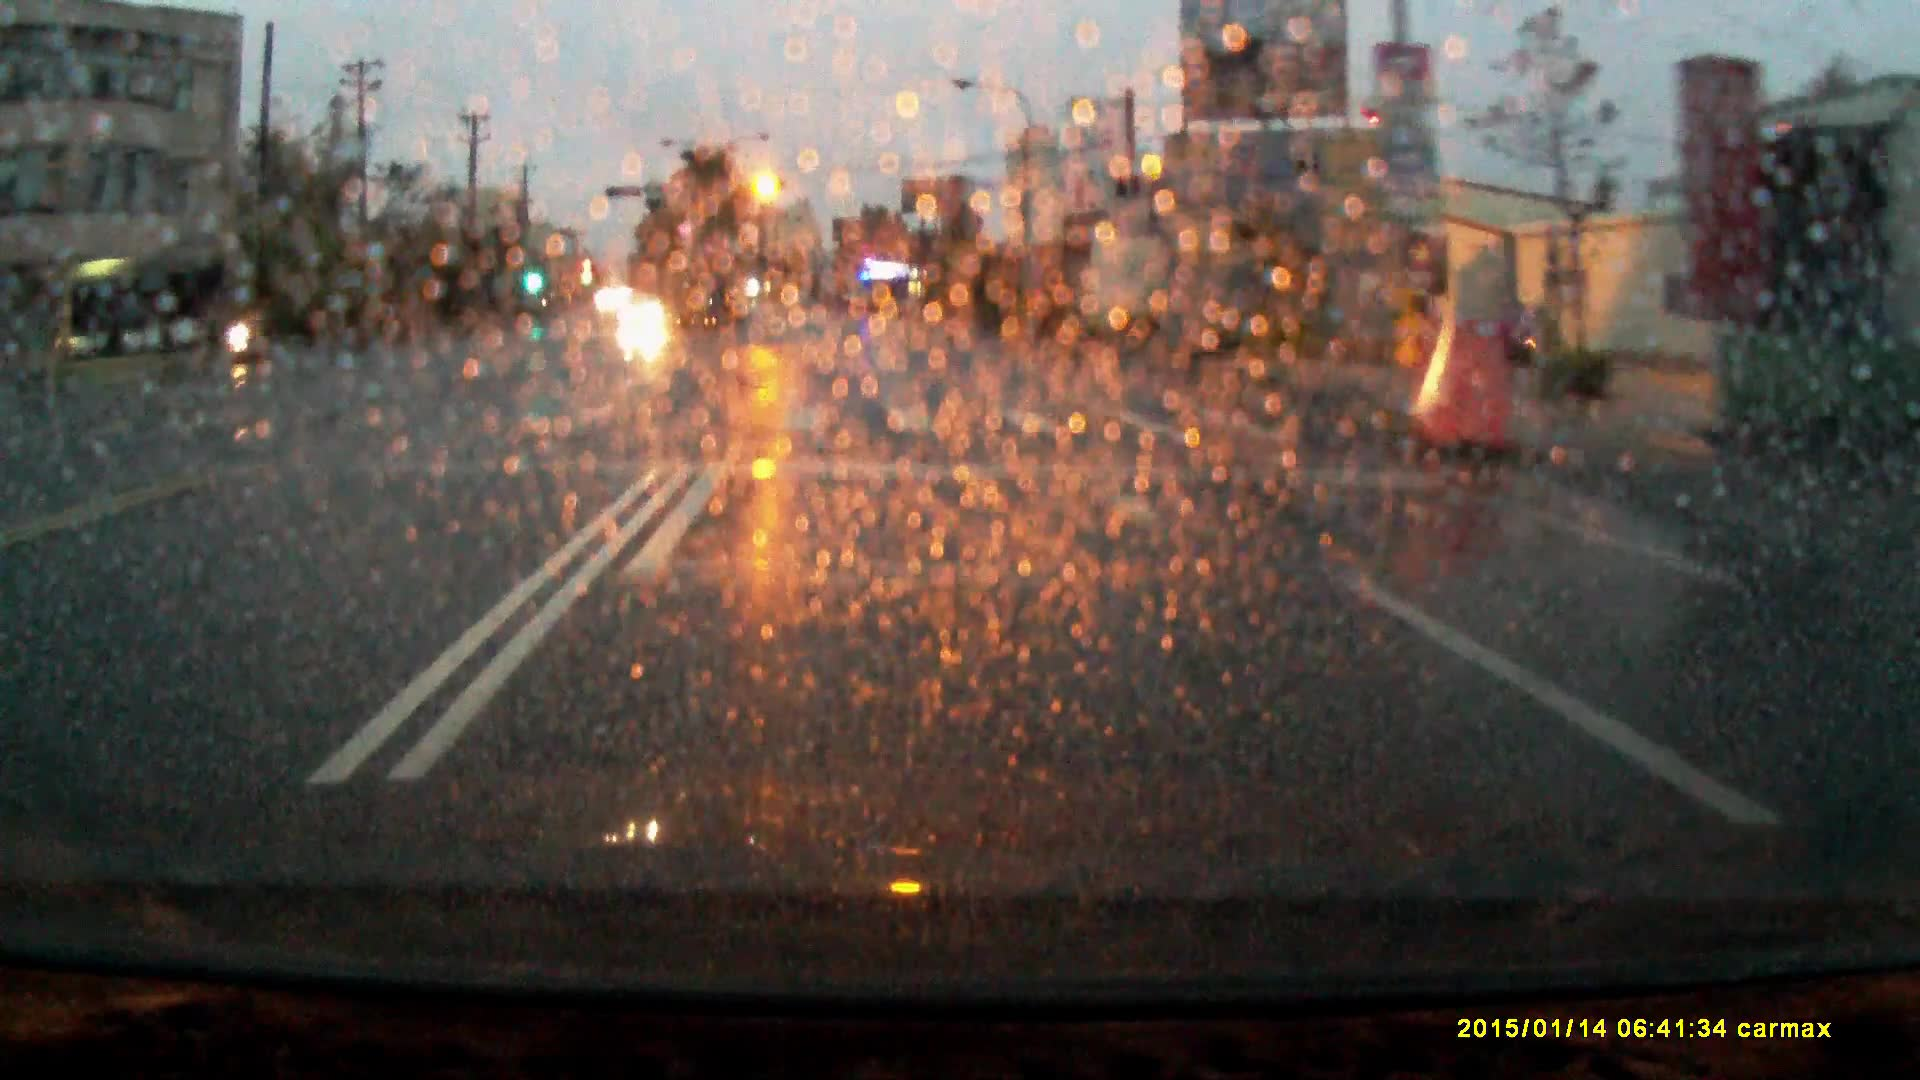rider: (222, 288, 261, 369)
vehicle: (619, 291, 666, 324)
